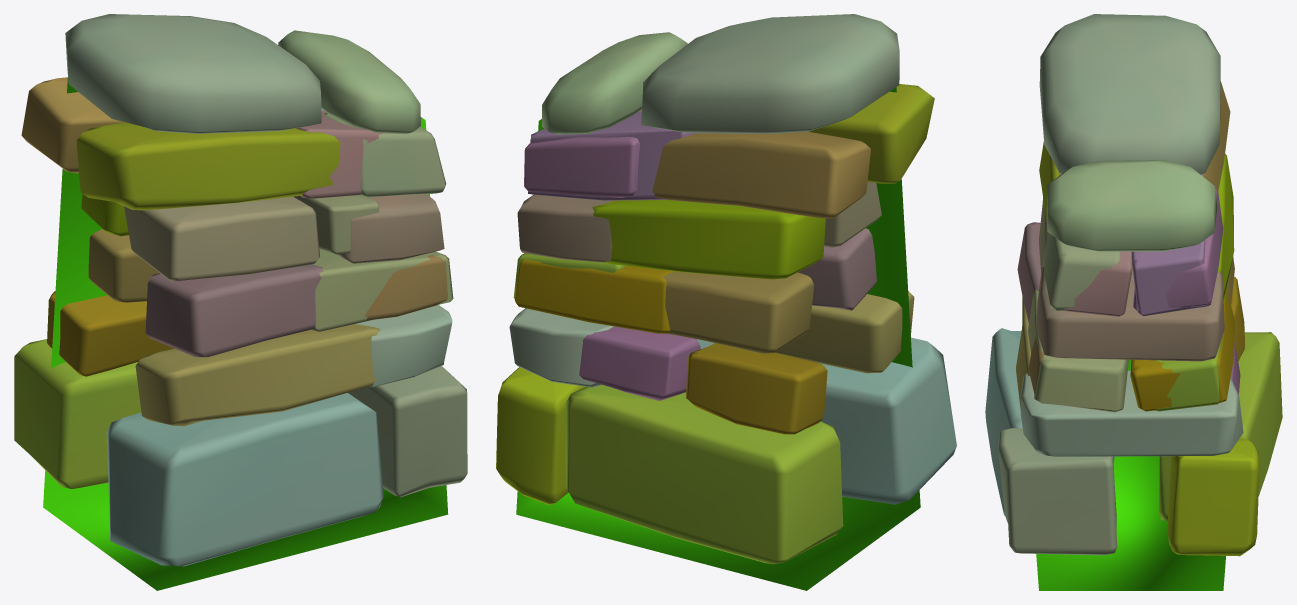
File: SM_Prop_wall_end_14.glb
The picture shows the model from 3 angles, left to right: view 1: azimuth 30°, elevation 25°; view 2: azimuth 150°, elevation 25°; view 3: azimuth 270°, elevation 25°; orthographic projection. The views are drawn at different scales.
Parts seen in each view (by area): view 1: SM_Prop_wall_end_14; view 2: SM_Prop_wall_end_14; view 3: SM_Prop_wall_end_14.
Part boxes in pixels (x1,y1,x2,y2): SM_Prop_wall_end_14: (14,14,467,590); SM_Prop_wall_end_14: (496,14,956,590); SM_Prop_wall_end_14: (985,14,1282,590).
Bounding box in the file's own units: 1.08 × 1.56 × 0.931.
